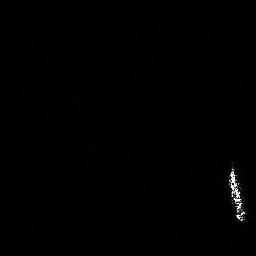ship: (225, 164, 250, 225)
